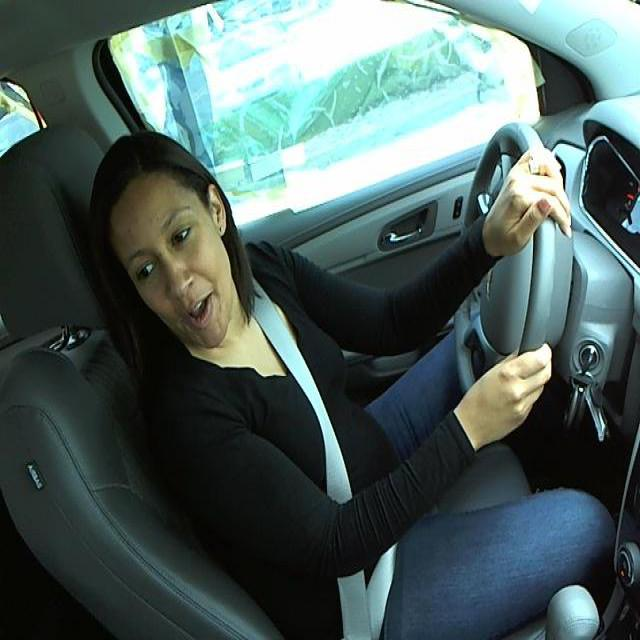seatbelt: (246, 311, 382, 512)
